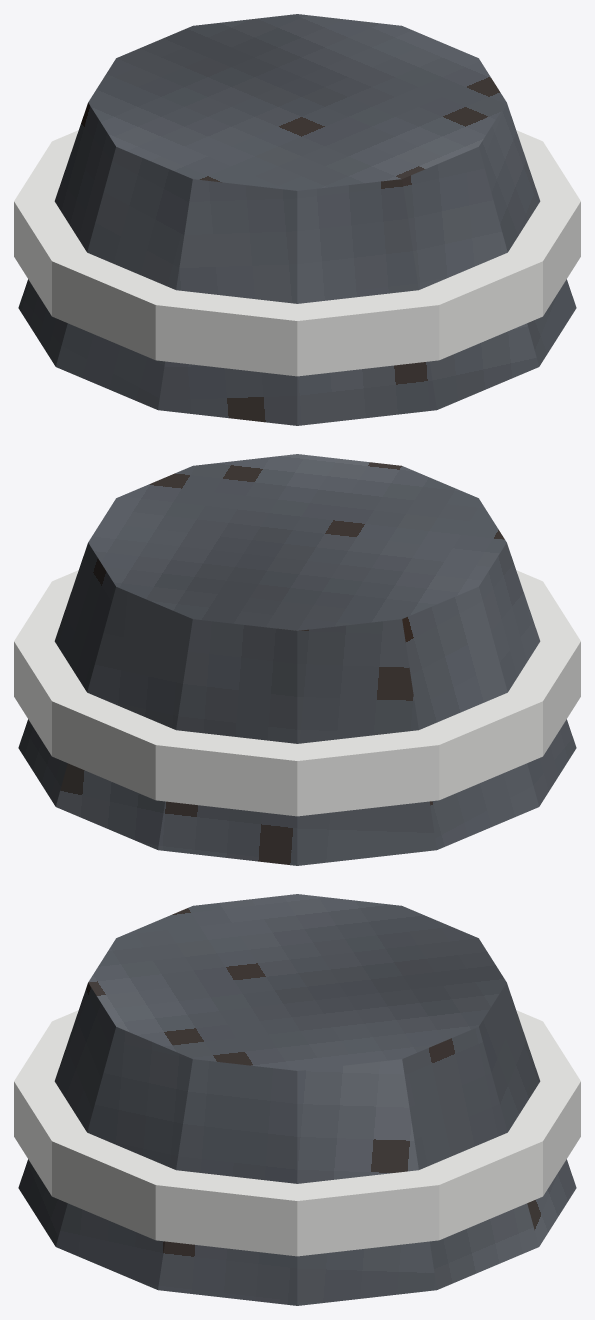
The model's file is turret.glb.
3 views of the same model, one above another, from view 1: azimuth 30°, elevation 25°; view 2: azimuth 150°, elevation 25°; view 3: azimuth 270°, elevation 25° (orthographic).
Visible parts, largest first — view 1: turret, stripe; view 2: turret, stripe; view 3: turret, stripe.
Boxes of the visible parts, <box> form: turret: <box>18,14,576,425</box>; stripe: <box>14,130,580,376</box>; turret: <box>18,454,576,865</box>; stripe: <box>14,570,580,816</box>; turret: <box>18,894,576,1305</box>; stripe: <box>14,1010,580,1256</box>.
Bounding box in the file's own units: 0.65 × 0.26 × 0.65.
2 materials, 1 textured.
